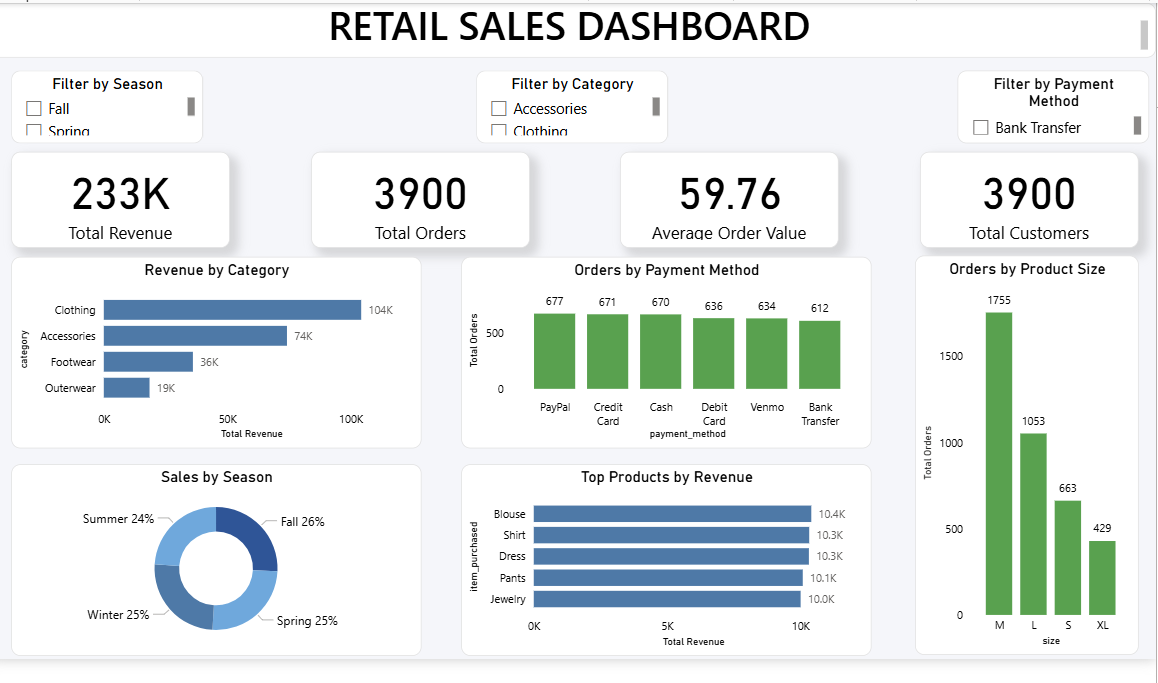

This screenshot's page, from the dashboard's own definition file:
{"tool":"powerbi","page":{"name":"Page 1","canvas":[1280,720],"ordinal":0},"visuals":[{"type":"card","fields":{"Values":["customers.Total Revenue"]},"box":[22.9,162.9,240,105.7],"z":0},{"type":"textbox","box":[0,0,1280,60],"z":1000},{"type":"card","fields":{"Values":["customers.Total Orders"]},"box":[352.9,162.9,240,105.7],"z":2000},{"type":"card","fields":{"Values":["customers.Total Customers"]},"box":[1021.4,162.9,240,105.7],"z":3000},{"type":"card","fields":{"Values":["customers.Average Order Value"]},"box":[691.4,162.9,240,105.7],"z":4000},{"type":"clusteredBarChart","title":"Revenue by Category","fields":{"Y":["customers.Total Revenue"],"Category":["products.category"]},"box":[22.9,278.6,450,210],"z":5000},{"type":"donutChart","title":"Sales by Season","fields":{"Category":["orders.season"],"Y":["customers.Total Revenue"]},"box":[22.9,505.7,450,210],"z":6000},{"type":"clusteredBarChart","title":"Top Products by Revenue","fields":{"Category":["products.item_purchased"],"Y":["customers.Total Revenue"]},"box":[517.1,505.7,450,210],"z":7000},{"type":"clusteredColumnChart","title":"Orders by Payment Method","fields":{"Category":["orders.payment_method"],"Y":["customers.Total Orders"]},"box":[517.1,278.6,450,210],"z":8000},{"type":"clusteredColumnChart","title":"Orders by Product Size","fields":{"Category":["orders.size"],"Y":["customers.Total Orders"]},"box":[1015.7,277.1,245.7,438.6],"z":9000},{"type":"slicer","title":"Filter by Season","fields":{"Values":["orders.season"]},"box":[22.9,74.3,210,80],"z":10000},{"type":"slicer","title":"Filter by Category","fields":{"Values":["products.category"]},"box":[534.3,74.3,210,80],"z":11000},{"type":"slicer","title":"Filter by Payment Method","fields":{"Values":["orders.payment_method"]},"box":[1061.4,74.3,210,80],"z":12000}]}

Visuals, with their boxes on the page's 1280x720 design canvas (x1, y1, x2, y2). These are canvas units, not pixel positions in the 1158x683 screenshot, which may show the page scaled, cropped or inside an application window:
card - customers.Total Revenue: pyautogui.locateOnScreen(23, 163, 263, 269)
textbox: pyautogui.locateOnScreen(0, 0, 1280, 60)
card - customers.Total Orders: pyautogui.locateOnScreen(353, 163, 593, 269)
card - customers.Total Customers: pyautogui.locateOnScreen(1021, 163, 1261, 269)
card - customers.Average Order Value: pyautogui.locateOnScreen(691, 163, 931, 269)
"Revenue by Category" clusteredBarChart: pyautogui.locateOnScreen(23, 279, 473, 489)
"Sales by Season" donutChart: pyautogui.locateOnScreen(23, 506, 473, 716)
"Top Products by Revenue" clusteredBarChart: pyautogui.locateOnScreen(517, 506, 967, 716)
"Orders by Payment Method" clusteredColumnChart: pyautogui.locateOnScreen(517, 279, 967, 489)
"Orders by Product Size" clusteredColumnChart: pyautogui.locateOnScreen(1016, 277, 1261, 716)
"Filter by Season" slicer: pyautogui.locateOnScreen(23, 74, 233, 154)
"Filter by Category" slicer: pyautogui.locateOnScreen(534, 74, 744, 154)
"Filter by Payment Method" slicer: pyautogui.locateOnScreen(1061, 74, 1271, 154)
